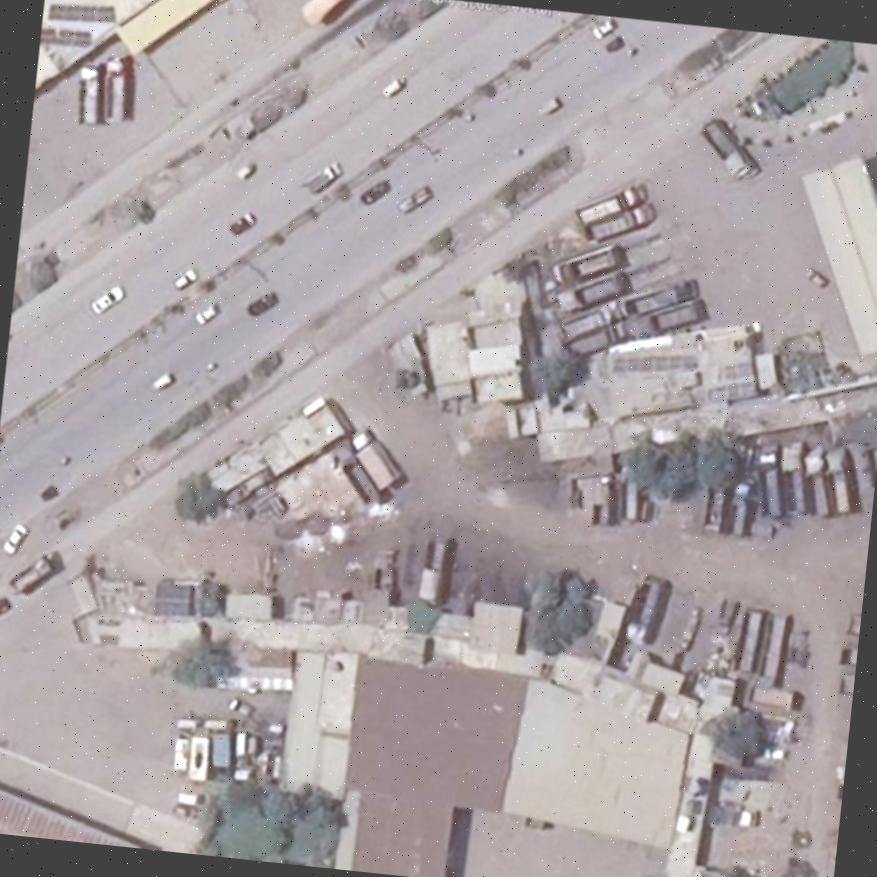Solarpanel: (50, 2, 114, 21), (40, 28, 91, 48)
